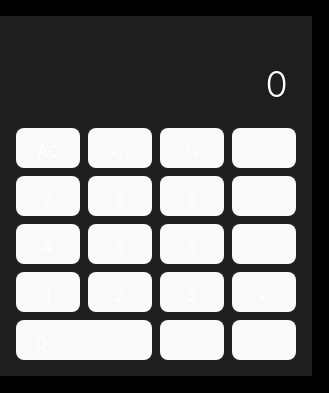
Test: CalculatorApp › evaluates the equation and shows the result when = is pressed
This screenshot has width=329, height=393.
Click the button "8" at x=120, y=196, box [88,176,152,216]
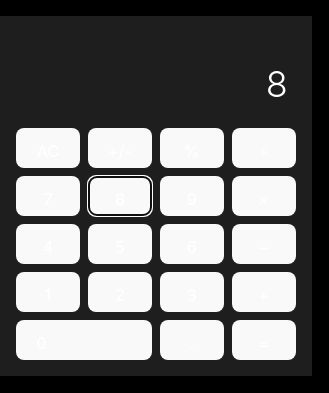
Click the button "+" at x=264, y=292, box [232,272,296,312]
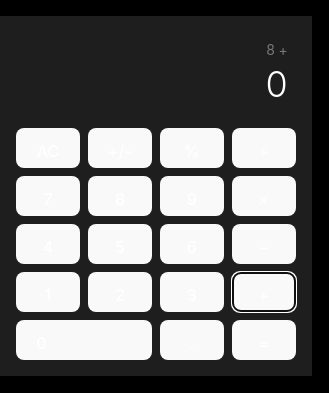
Click the button "4" at x=48, y=244, box [16,224,80,264]
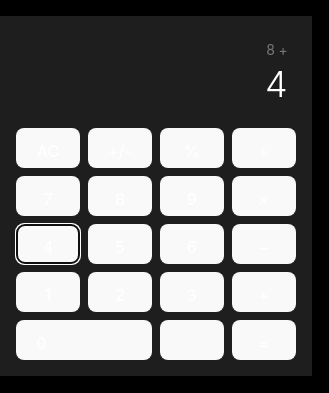
Click the button "=" at x=264, y=340, box [232,320,296,360]
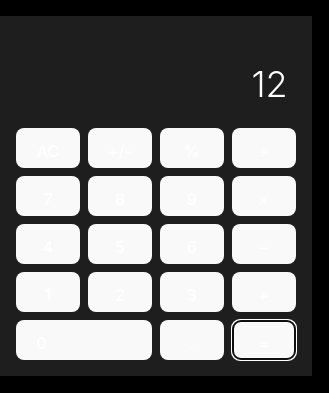
Check: the text with test id "display" reads "12", box [252,62,288,106]
